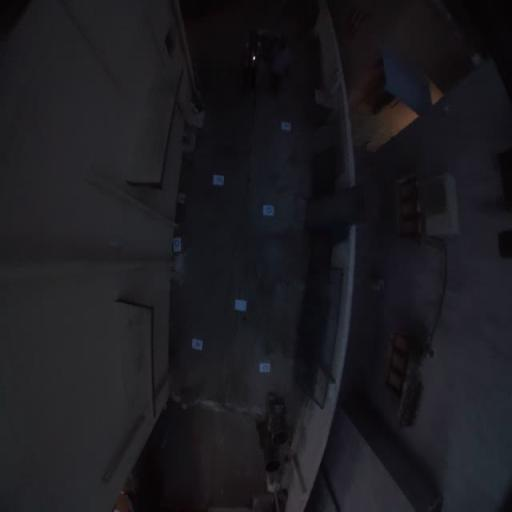A: (192, 338, 202, 351)
C: (259, 363, 271, 373)
D: (172, 238, 182, 252)
E: (212, 174, 225, 185)
G: (262, 205, 274, 216)
H: (281, 122, 292, 131)
